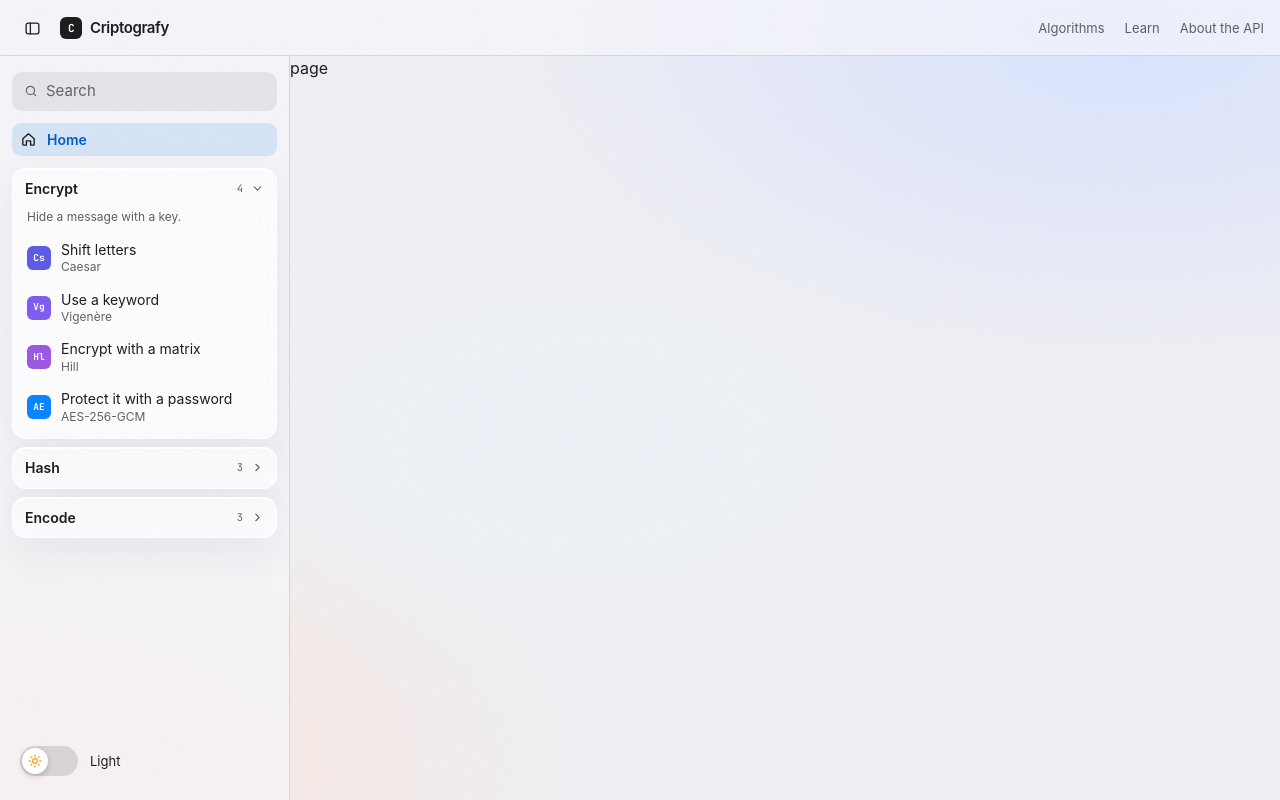
Sidebar › says so when nothing matches
The width and height of the screenshot is (1280, 800).
expect the link "Cs Shift letters Caesar" is shown: met, box [27,241,136,274]
Type "zzz" into the search field labelled "Search" at coordinates (156, 91), box [46,80,265,102]
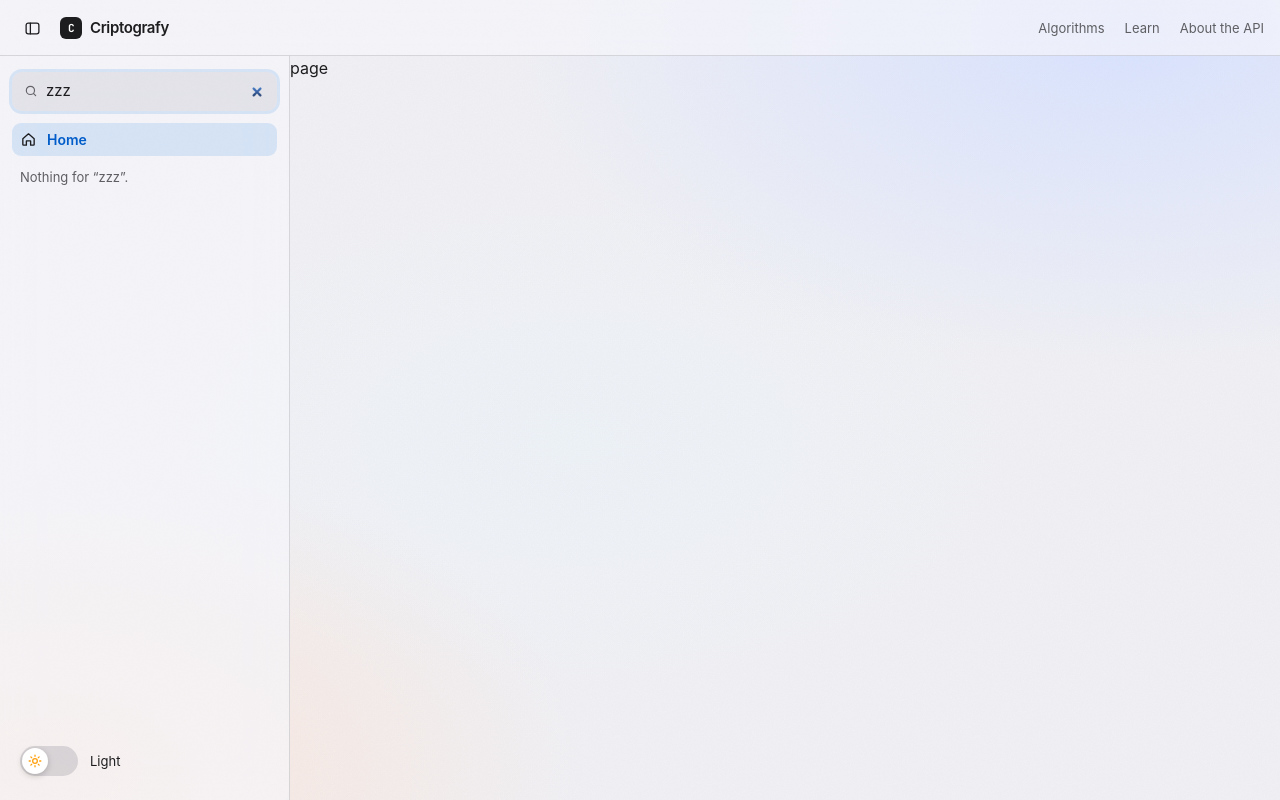
expect the text "Nothing for “zzz”." is shown: met, box [20,169,128,185]
